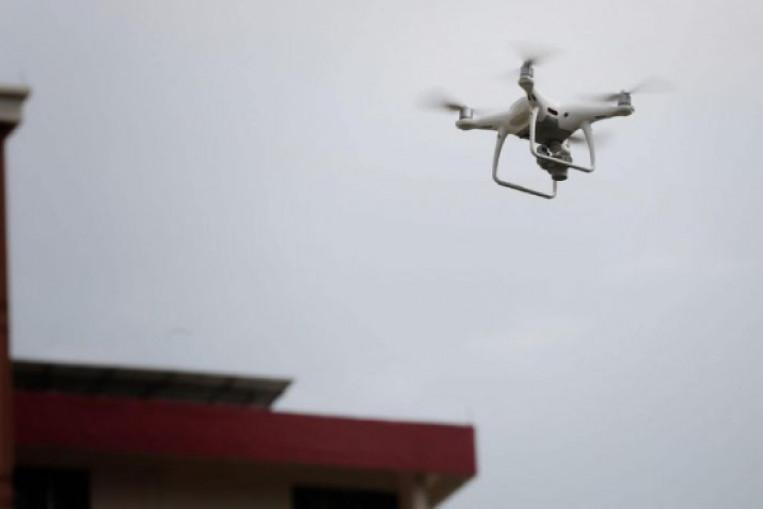drone_other: (410, 38, 678, 200)
